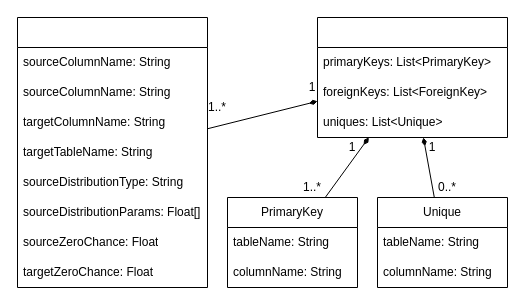
This 525x305 diagram has some shape labels left out. The box of each missing label's shape, as (x1, y1, x2, y2) in pixels:
ConstraintSet: (316, 16, 508, 138)
ForeignKey: (16, 16, 208, 288)
